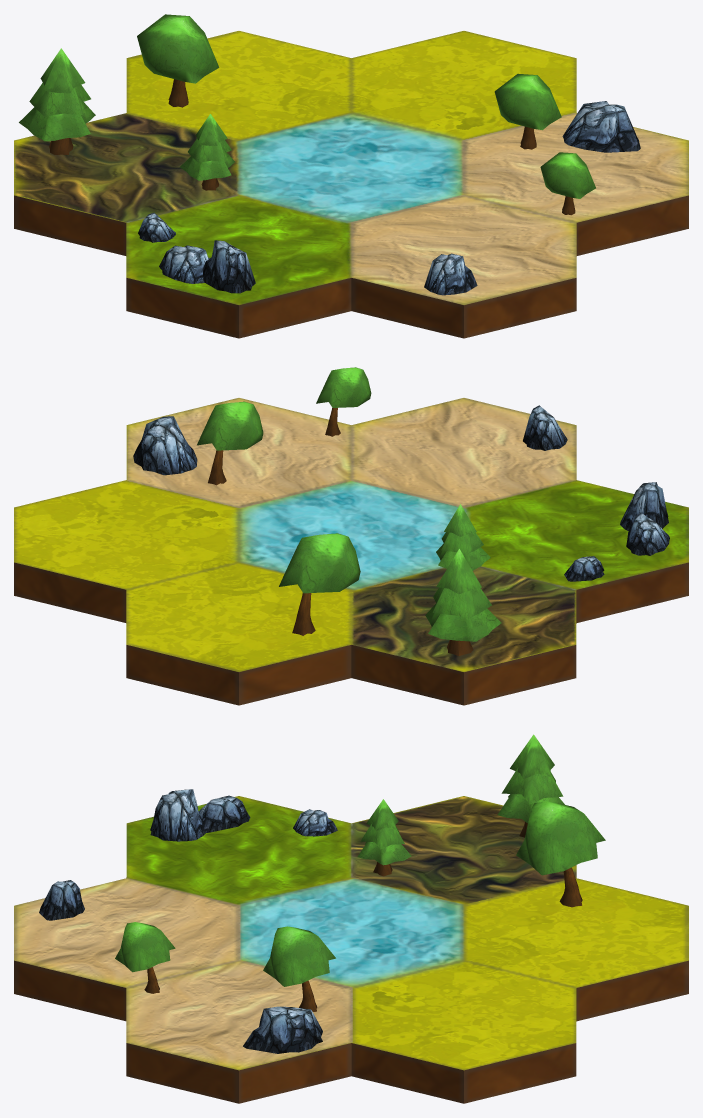
The model's file is Tile_Forest3.fbx.
3 views of the same model, one above another, from view 1: azimuth 30°, elevation 25°; view 2: azimuth 150°, elevation 25°; view 3: azimuth 270°, elevation 25° (orthographic).
Visible parts, largest first — view 1: tile1, tree014, tree013, mountain2, tree012, tree015, tree016, mountain3, mountain4, mountain5, mountain6; view 2: tile1, tree014, tree013, tree012, mountain2, tree016, tree015, mountain3, mountain4, mountain5, mountain6; view 3: tile1, tree013, tree012, tree014, mountain2, tree016, mountain3, tree015, mountain5, mountain4, mountain6.
Part boxes in pixels (x1,y1,x2,y2): tile1: (14, 31, 688, 338); tree014: (19, 48, 95, 154); tree013: (137, 14, 219, 107); mountain2: (562, 101, 640, 152); tree012: (494, 73, 561, 149); tree015: (180, 114, 234, 190); tree016: (540, 152, 595, 215); mountain3: (202, 240, 255, 293); mountain4: (424, 253, 477, 295); mountain5: (159, 245, 209, 283); mountain6: (138, 212, 175, 242); tile1: (14, 398, 688, 705); tree014: (425, 549, 501, 656); tree013: (279, 533, 360, 635); tree012: (197, 401, 263, 485); mountain2: (133, 416, 197, 475); tree016: (316, 367, 371, 436); tree015: (436, 504, 490, 570); mountain3: (620, 482, 668, 530); mountain4: (523, 405, 567, 450); mountain5: (626, 512, 669, 555); mountain6: (564, 556, 604, 581); tile1: (14, 796, 688, 1103); tree013: (516, 801, 605, 907); tree012: (263, 926, 335, 1011); tree014: (497, 734, 564, 837); mountain2: (243, 1006, 322, 1053); tree016: (115, 922, 175, 993); mountain3: (150, 789, 205, 841); tree015: (357, 799, 411, 876); mountain5: (198, 795, 250, 832); mountain4: (39, 880, 84, 920); mountain6: (293, 809, 337, 836).
Bounding box in the file's own units: 128 × 29.37 × 133.
